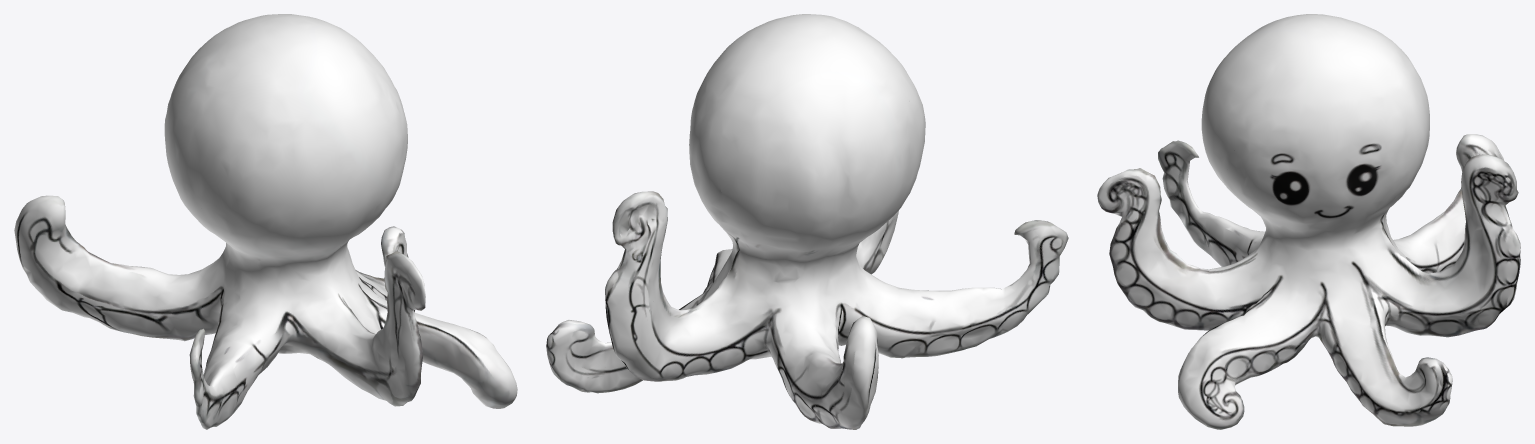
The model's file is robot-octopus.glb.
3 views of the same model, side by side, from view 1: azimuth 30°, elevation 25°; view 2: azimuth 150°, elevation 25°; view 3: azimuth 270°, elevation 25° (orthographic). The views are drawn at different scales.
Parts seen in each view (by area): view 1: lagrange_node; view 2: lagrange_node; view 3: lagrange_node.
Part boxes in pixels (left/top/right/bottom): lagrange_node: left=14, top=14, right=517, bottom=429; lagrange_node: left=546, top=14, right=1068, bottom=429; lagrange_node: left=1097, top=14, right=1520, bottom=429.
Bounding box in the file's own units: 1.71 × 1.67 × 1.89.
Materials: 1 (1 with a texture image).
